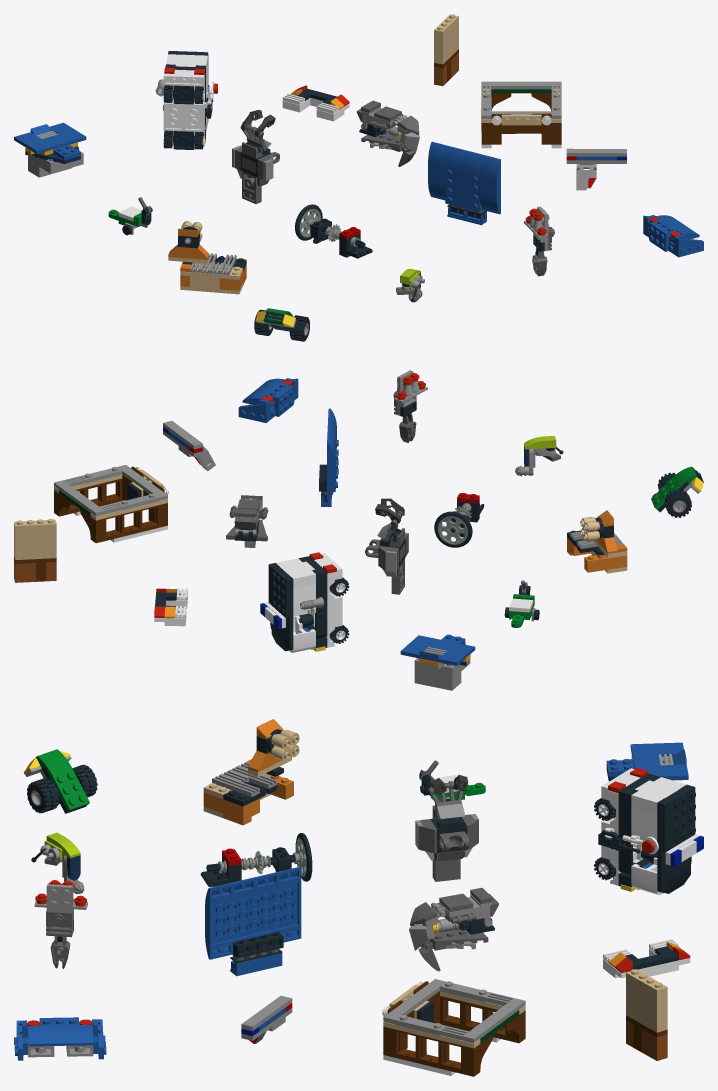
The picture shows the model from 3 angles, top to bottom: view 1: azimuth 30°, elevation 25°; view 2: azimuth 150°, elevation 25°; view 3: azimuth 270°, elevation 25°; orthographic projection. The views are drawn at different scales.
Visible parts, largest first — view 1: 3021 (×2), 4162, 87079; view 2: 3010 (×4), 4162 (×2), 4213, 4185a, 4594, 3001, 45677, 87079, 87697; view 3: 3035, 3010 (×4), 4162 (×2), 4213, 87079 (×2), 15068 (×2), 45677, 3020, 3001, 87697, 4594, 6636 (+4 smaller).
Boxes of the visible parts, <box> form: 3021 (×2): <box>163,102,203,131</box>; 4162: <box>481,81,561,89</box>; 87079: <box>454,169,470,209</box>; 3010 (×4): <box>14,519,627,572</box>; 4162 (×2): <box>54,465,167,516</box>; 4213: <box>268,565,289,617</box>; 4185a: <box>437,516,467,544</box>; 4594: <box>289,615,315,652</box>; 3001: <box>414,672,461,690</box>; 45677: <box>270,617,293,651</box>; 87079: <box>438,643,475,665</box>; 87697: <box>664,489,691,517</box>; 3035: <box>207,879,301,947</box>; 3010 (×4): <box>618,787,667,1032</box>; 4162 (×2): <box>383,979,525,1043</box>; 4213: <box>662,786,695,850</box>; 87079 (×2): <box>630,742,688,780</box>; 15068 (×2): <box>27,1025,80,1046</box>; 45677: <box>657,850,691,893</box>; 3020: <box>46,884,73,934</box>; 3001: <box>203,792,259,820</box>; 87697: <box>27,778,59,813</box>; 4594: <box>631,857,663,895</box>; 6636: <box>241,995,292,1030</box>.
Size of the model in its own units: 1077 by 183 by 1059.
